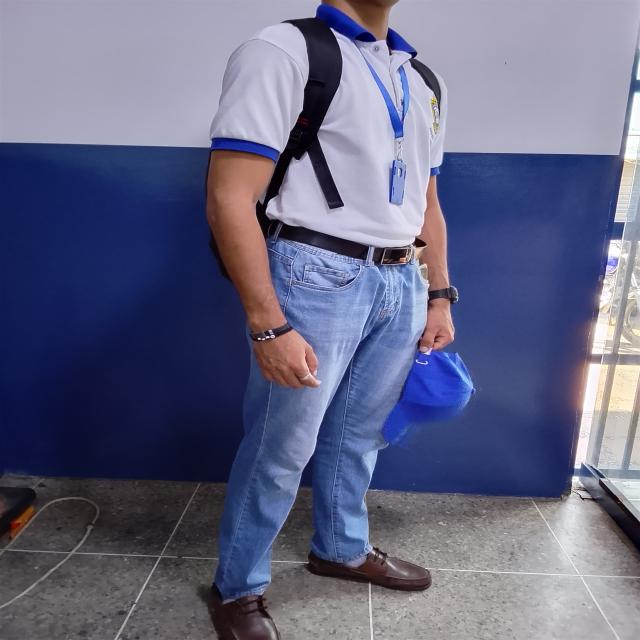carnet: (389, 160, 406, 205)
uniforme_superior: (209, 3, 448, 248)
